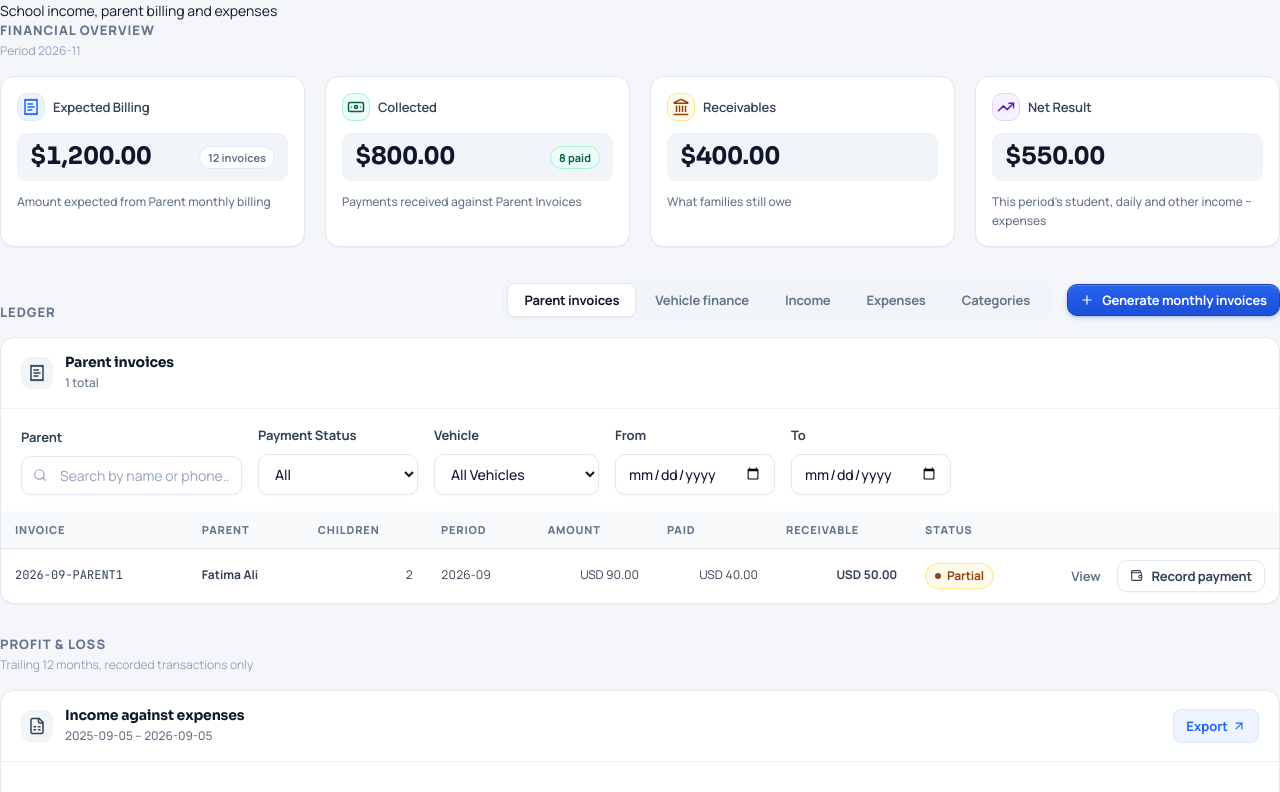
Test: OrgFinancePage › opens the Parent Invoice detail drawer and shows the child line items behind it
Expected: the text "Fatima Ali" is shown, [188, 548, 304, 603]
Click the button "View" at (1086, 576), box [1058, 560, 1113, 592]
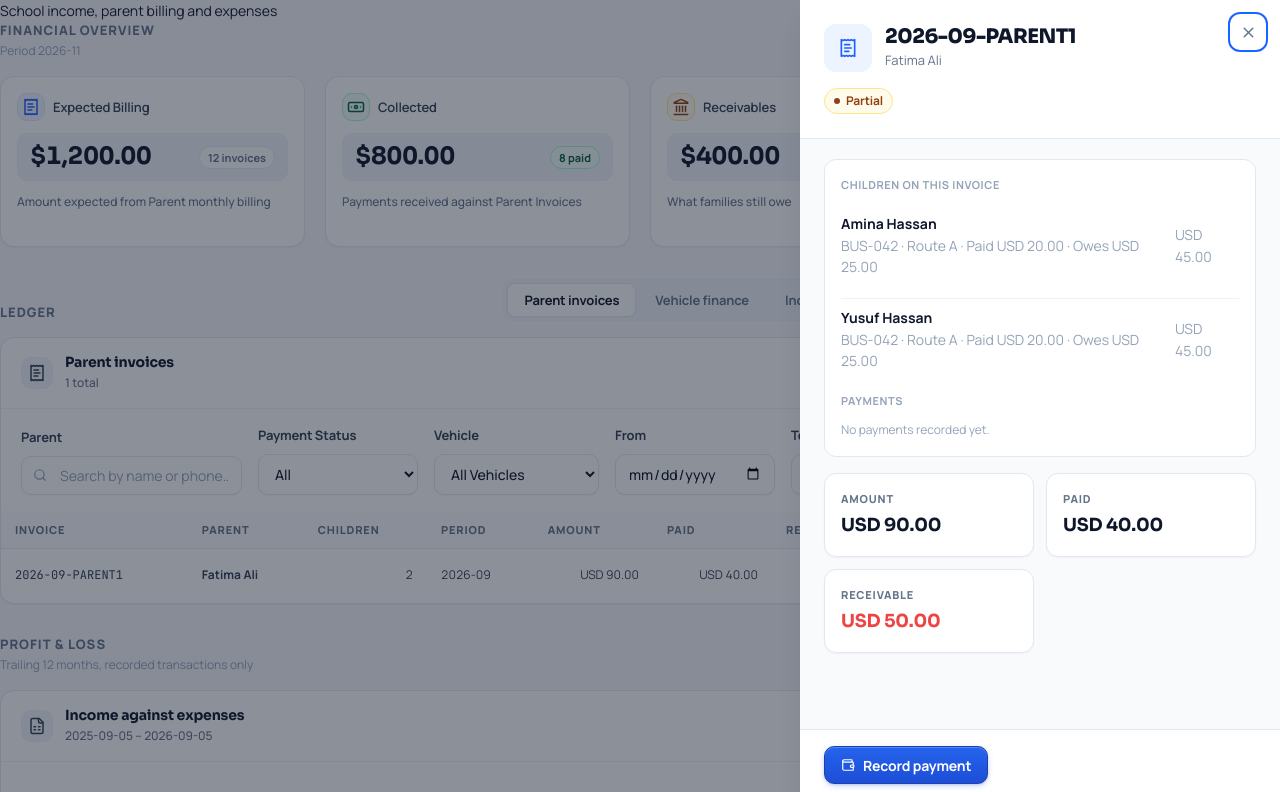
Now the text "Amina Hassan" is shown, box [841, 214, 937, 233]
Now the text "BUS-042 · Route A · Paid USD 20.00 · Owes USD 25.00" is shown 2 times, box [841, 235, 1163, 278]; [841, 329, 1163, 372]
